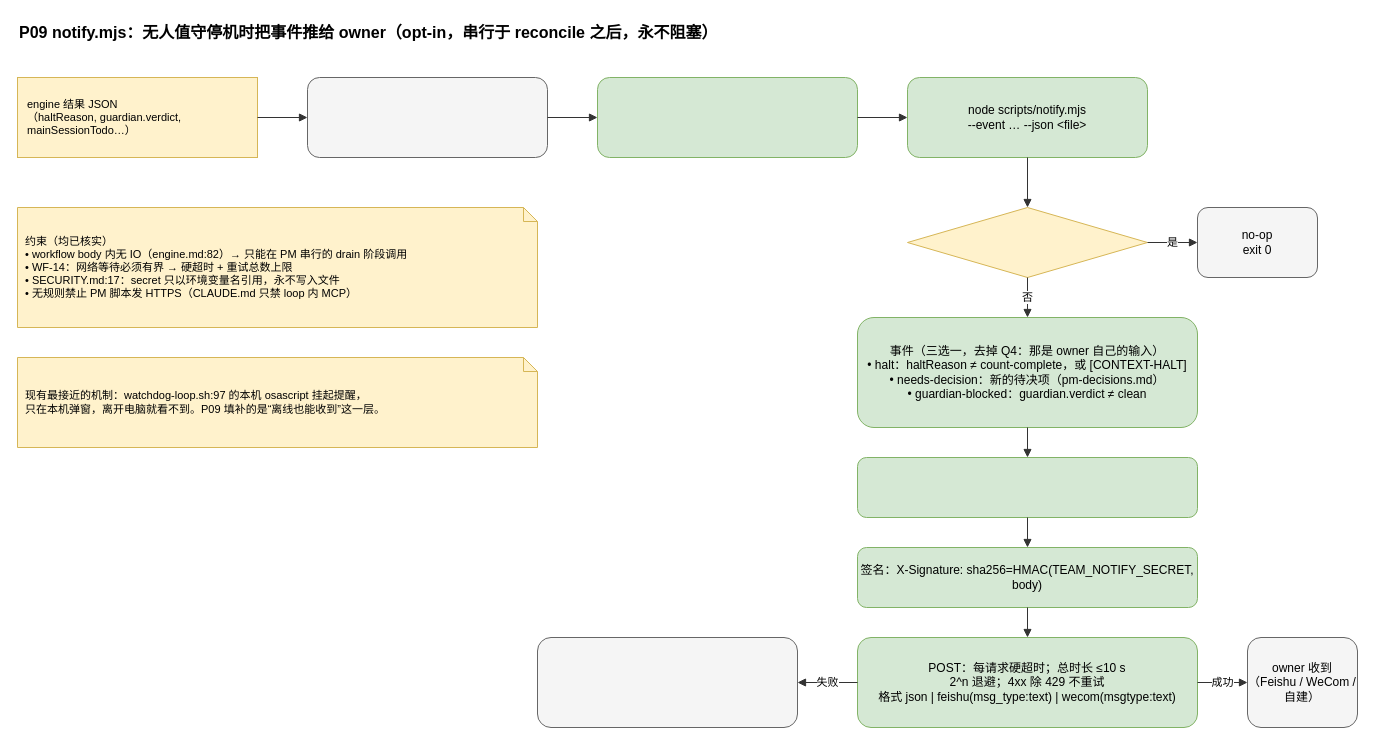
Image size: 1375x745. Some labels were removed from this diagram. Each missing label, with the box of its shape:
drain checklist（docs/engine.md:345） tracker 同步 · Q3/Q4 attestation + 新增一步：notify: (596, 76, 858, 158)
PM 运行 reconcile-run.mjs 原子写 lifecycle + messages: (306, 76, 548, 158)
TEAM_NOTIFY_URL 未设？: (906, 206, 1148, 278)
失败：exit 0 + WARN SLA 时钟不变 （harness-assumptions 新增一行降级）: (536, 636, 798, 728)
脱敏：复用 engine 的 redact()（P05 扩充后的形状）: (856, 456, 1198, 518)
